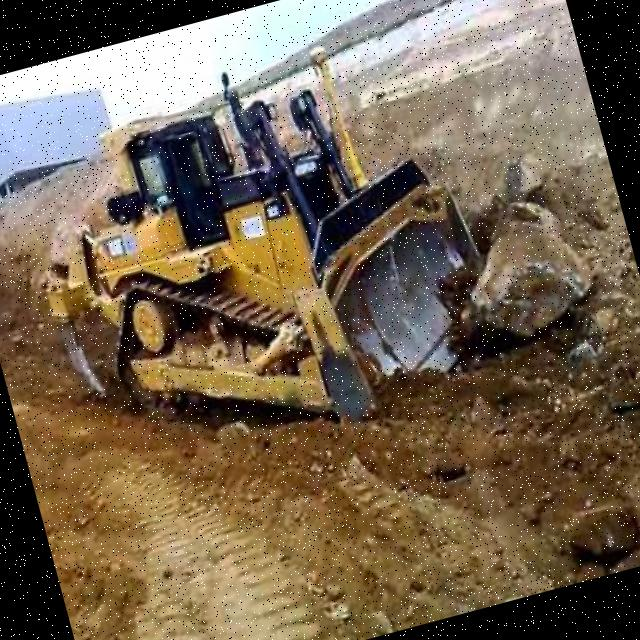Bulldozer: (8, 9, 562, 510)
